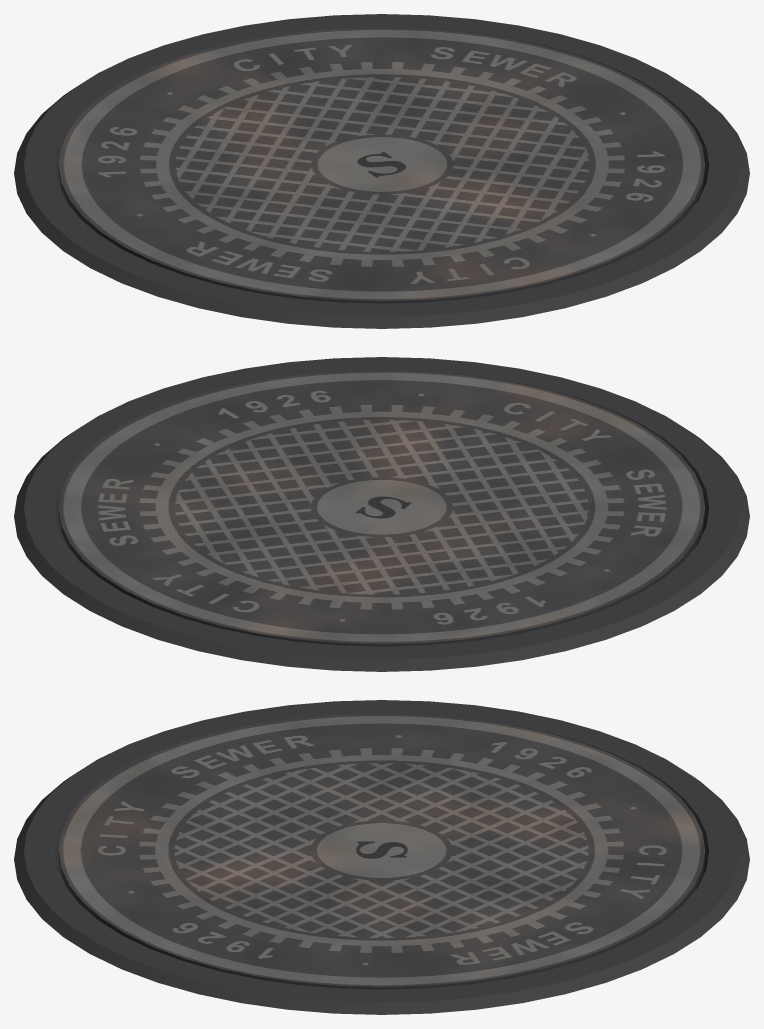
Rendered from ManholeCover.fbx.
3 views of the same model, one above another, from view 1: azimuth 30°, elevation 25°; view 2: azimuth 150°, elevation 25°; view 3: azimuth 270°, elevation 25° (orthographic).
Visible parts, largest first — view 1: ManholeCover_Mesh; view 2: ManholeCover_Mesh; view 3: ManholeCover_Mesh.
Boxes of the visible parts, x1,y1,x2,y2 form: ManholeCover_Mesh: (14,14,749,328); ManholeCover_Mesh: (14,357,749,671); ManholeCover_Mesh: (14,700,749,1014).
Bounding box in the file's own units: 0.74 × 0.01 × 0.74.
